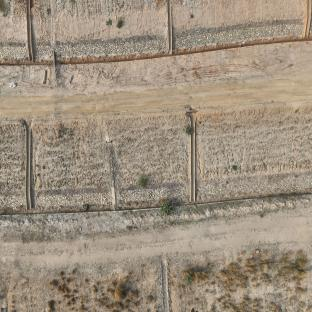rock_toe: (197, 169, 311, 201), (173, 23, 304, 50), (33, 36, 167, 58), (32, 189, 112, 210), (116, 183, 190, 203), (0, 194, 26, 210), (0, 45, 28, 59)
slope_drain: (105, 140, 117, 209), (24, 122, 32, 210), (160, 257, 172, 312), (189, 117, 196, 203), (25, 0, 33, 62), (303, 0, 312, 38), (167, 1, 173, 55)
toe_drain: (0, 34, 312, 67), (0, 189, 312, 218)
